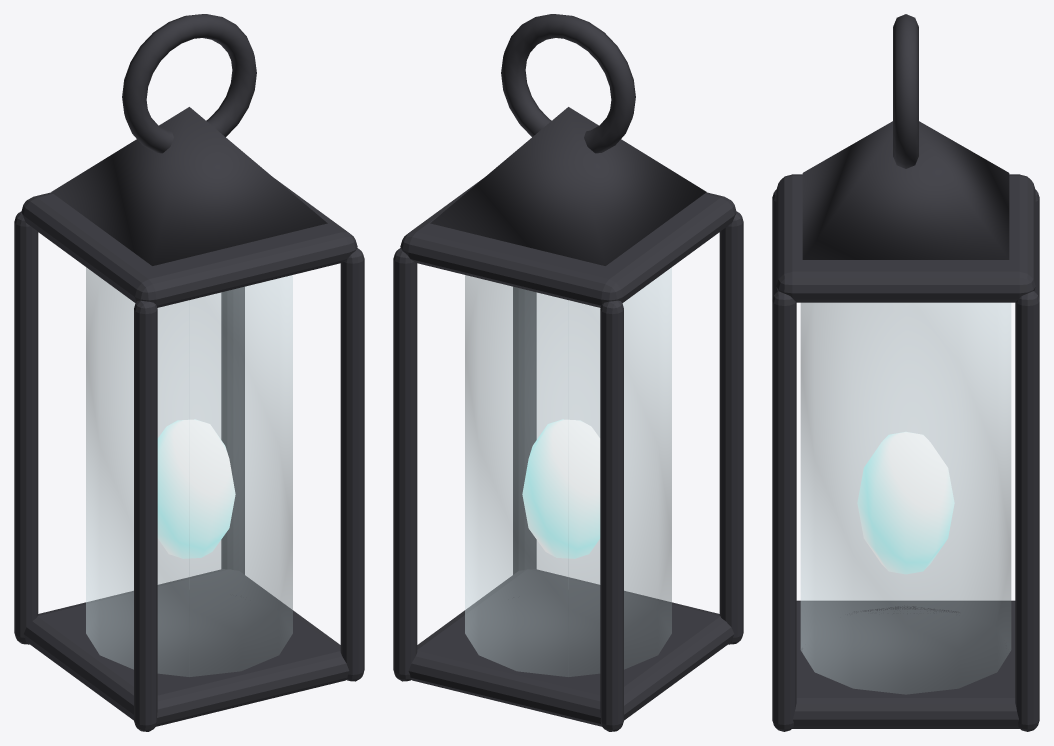
The model's file is lantern_spirit_lantern.glb.
3 views of the same model, side by side, from view 1: azimuth 30°, elevation 25°; view 2: azimuth 150°, elevation 25°; view 3: azimuth 270°, elevation 25° (orthographic).
Parts seen in each view (by area): view 1: GD_lantern_spirit_lantern__m0, GD_lantern_spirit_lantern__m1, GD_lantern_spirit_lantern__m2; view 2: GD_lantern_spirit_lantern__m0, GD_lantern_spirit_lantern__m1, GD_lantern_spirit_lantern__m2; view 3: GD_lantern_spirit_lantern__m0, GD_lantern_spirit_lantern__m1, GD_lantern_spirit_lantern__m2.
Boxes of the visible parts, x1,y1,x2,y2 form: GD_lantern_spirit_lantern__m0: (14,14,364,731); GD_lantern_spirit_lantern__m1: (86,267,292,676); GD_lantern_spirit_lantern__m2: (157,419,235,558); GD_lantern_spirit_lantern__m0: (393,14,743,731); GD_lantern_spirit_lantern__m1: (465,267,671,676); GD_lantern_spirit_lantern__m2: (522,419,600,558); GD_lantern_spirit_lantern__m0: (772,14,1039,731); GD_lantern_spirit_lantern__m1: (800,302,1011,694); GD_lantern_spirit_lantern__m2: (857,431,954,574).
Bounding box in the file's own units: 0.165 × 0.448 × 0.165.
